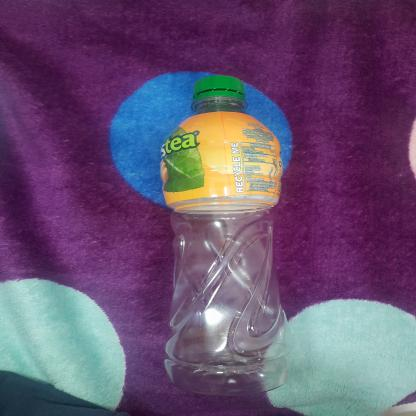bottle: (159, 73, 294, 397)
